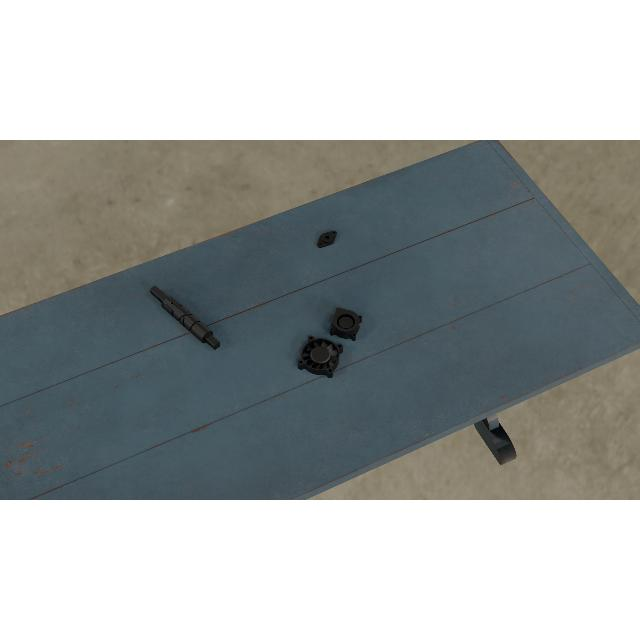Pieza1: (146, 282, 224, 354)
Pieza2: (313, 226, 341, 252)
Pieza3: (329, 308, 363, 342)
Pieza4: (296, 334, 344, 380)
